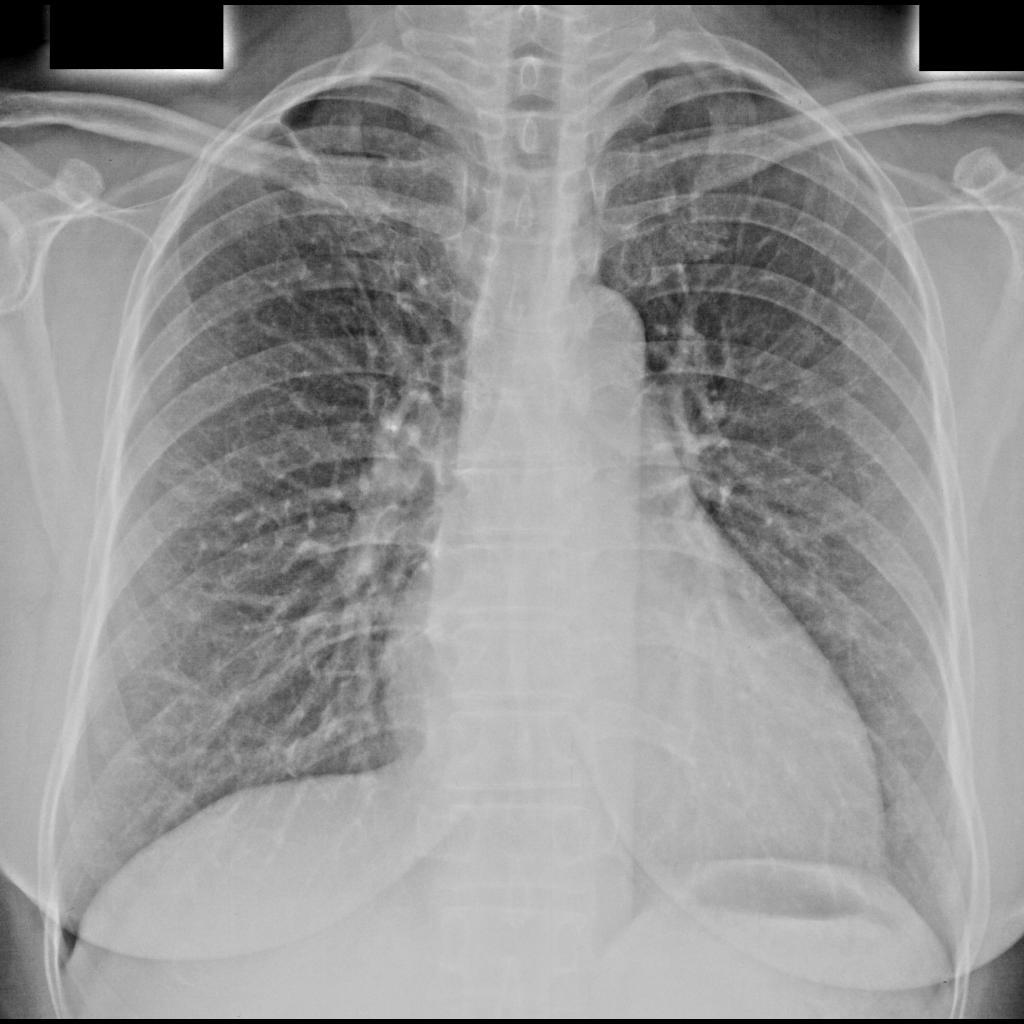Nodule: (306, 159, 379, 232)
